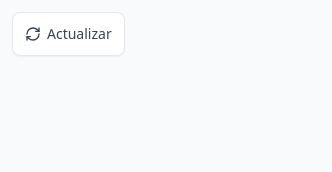
it: RefreshButton (R-03) › llama a la carga, se desactiva mientras carga y no admite doble toque
Later steps or results of the test are not shown.
Click the button "Actualizar" at (68, 34), box [12, 12, 125, 56]
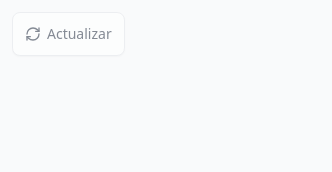
Click the button "Actualizar" at (68, 34), box [12, 12, 125, 56]
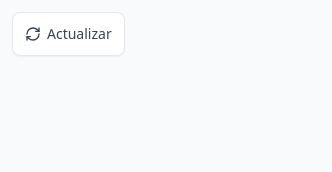
Now the button "Actualizar" is enabled, box [12, 12, 125, 56]
